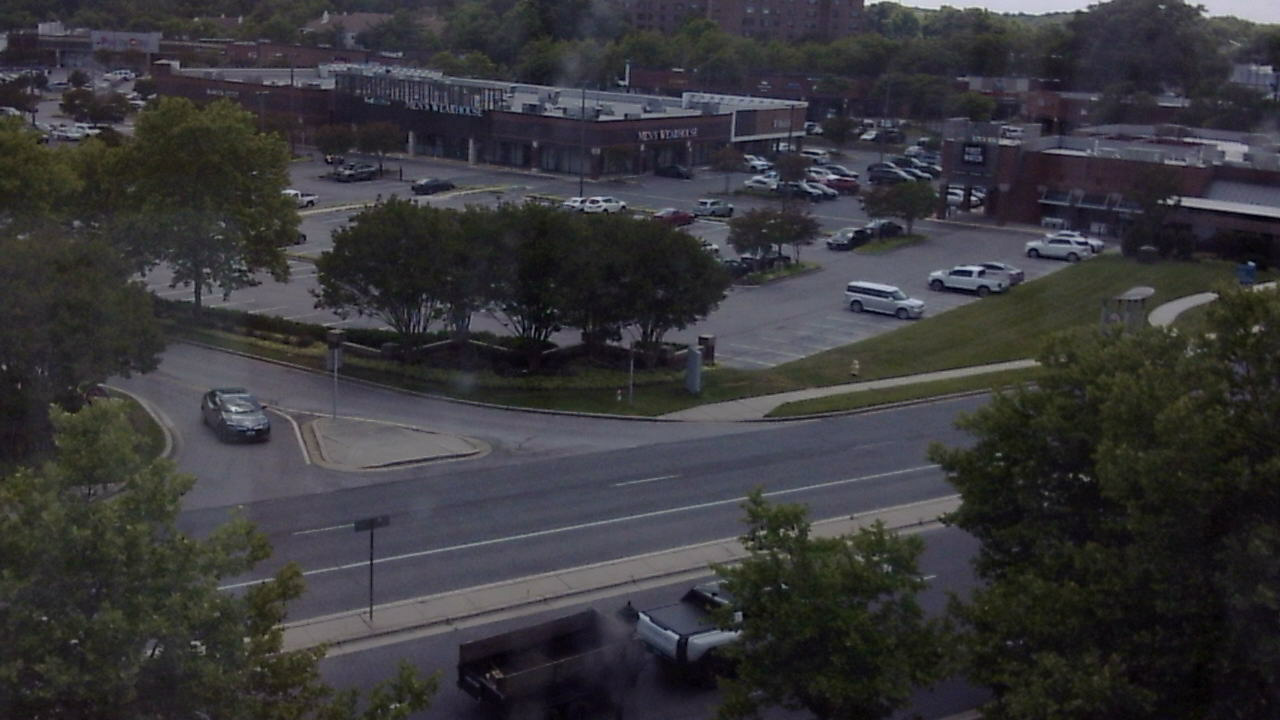Car: (452, 564, 907, 720), (194, 377, 289, 455)
